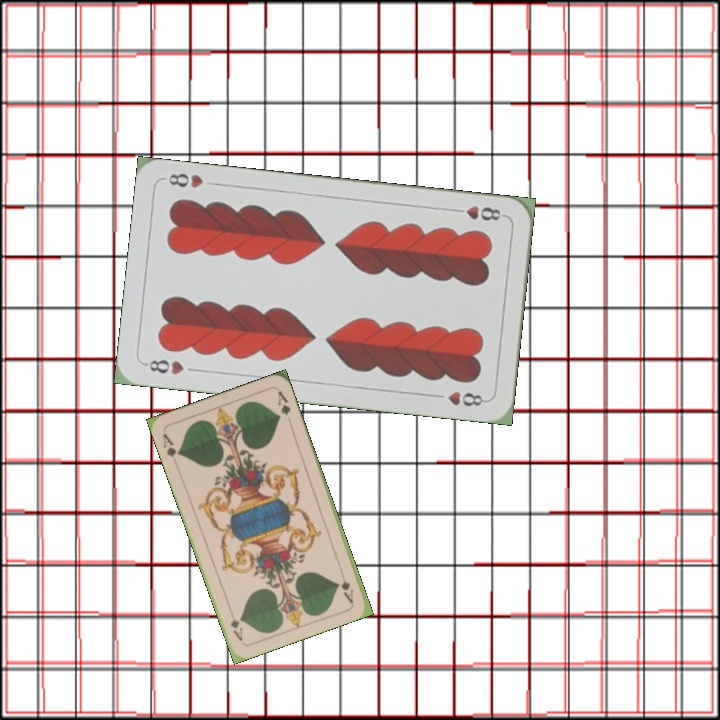GA: (336, 565, 356, 605), (158, 429, 183, 460)
H8: (449, 202, 508, 224), (140, 355, 187, 377)
